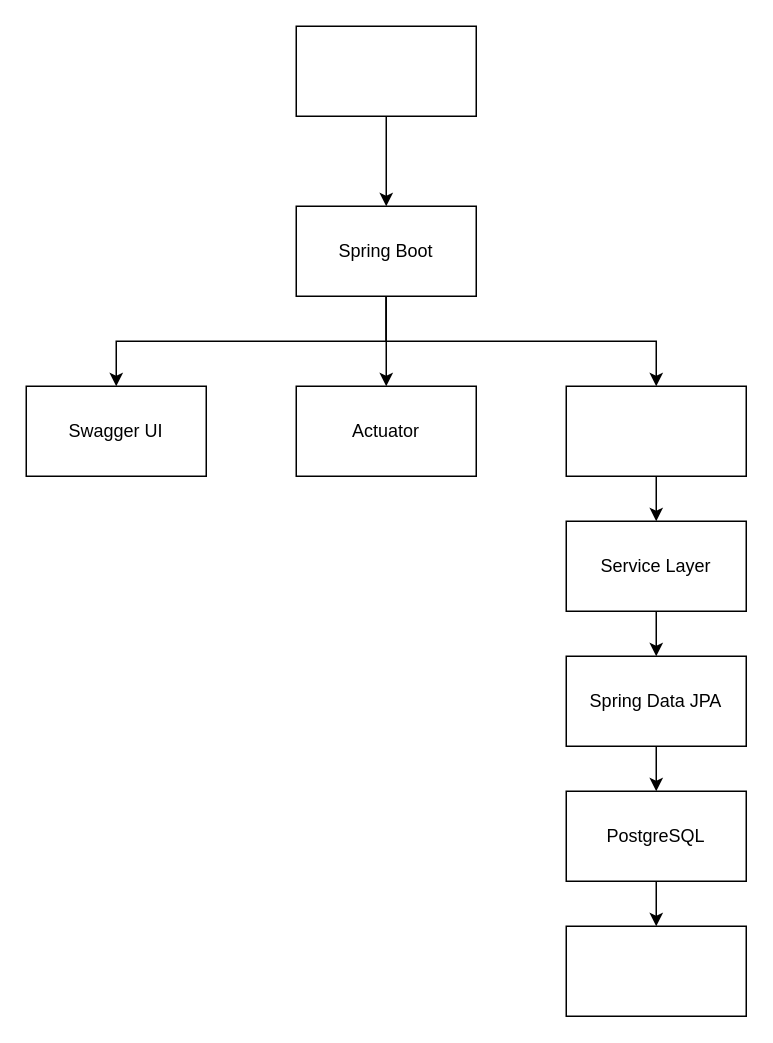
Some shapes in this 773 by 1043 pixel diagram are drawn without their labels. Here are the shapes that lost their labels. From the top down, the centre of each, then its label:
At pixel 385 70: "Bruno".
At pixel 655 430: "REST Controllers".
At pixel 655 970: "Flyway".
